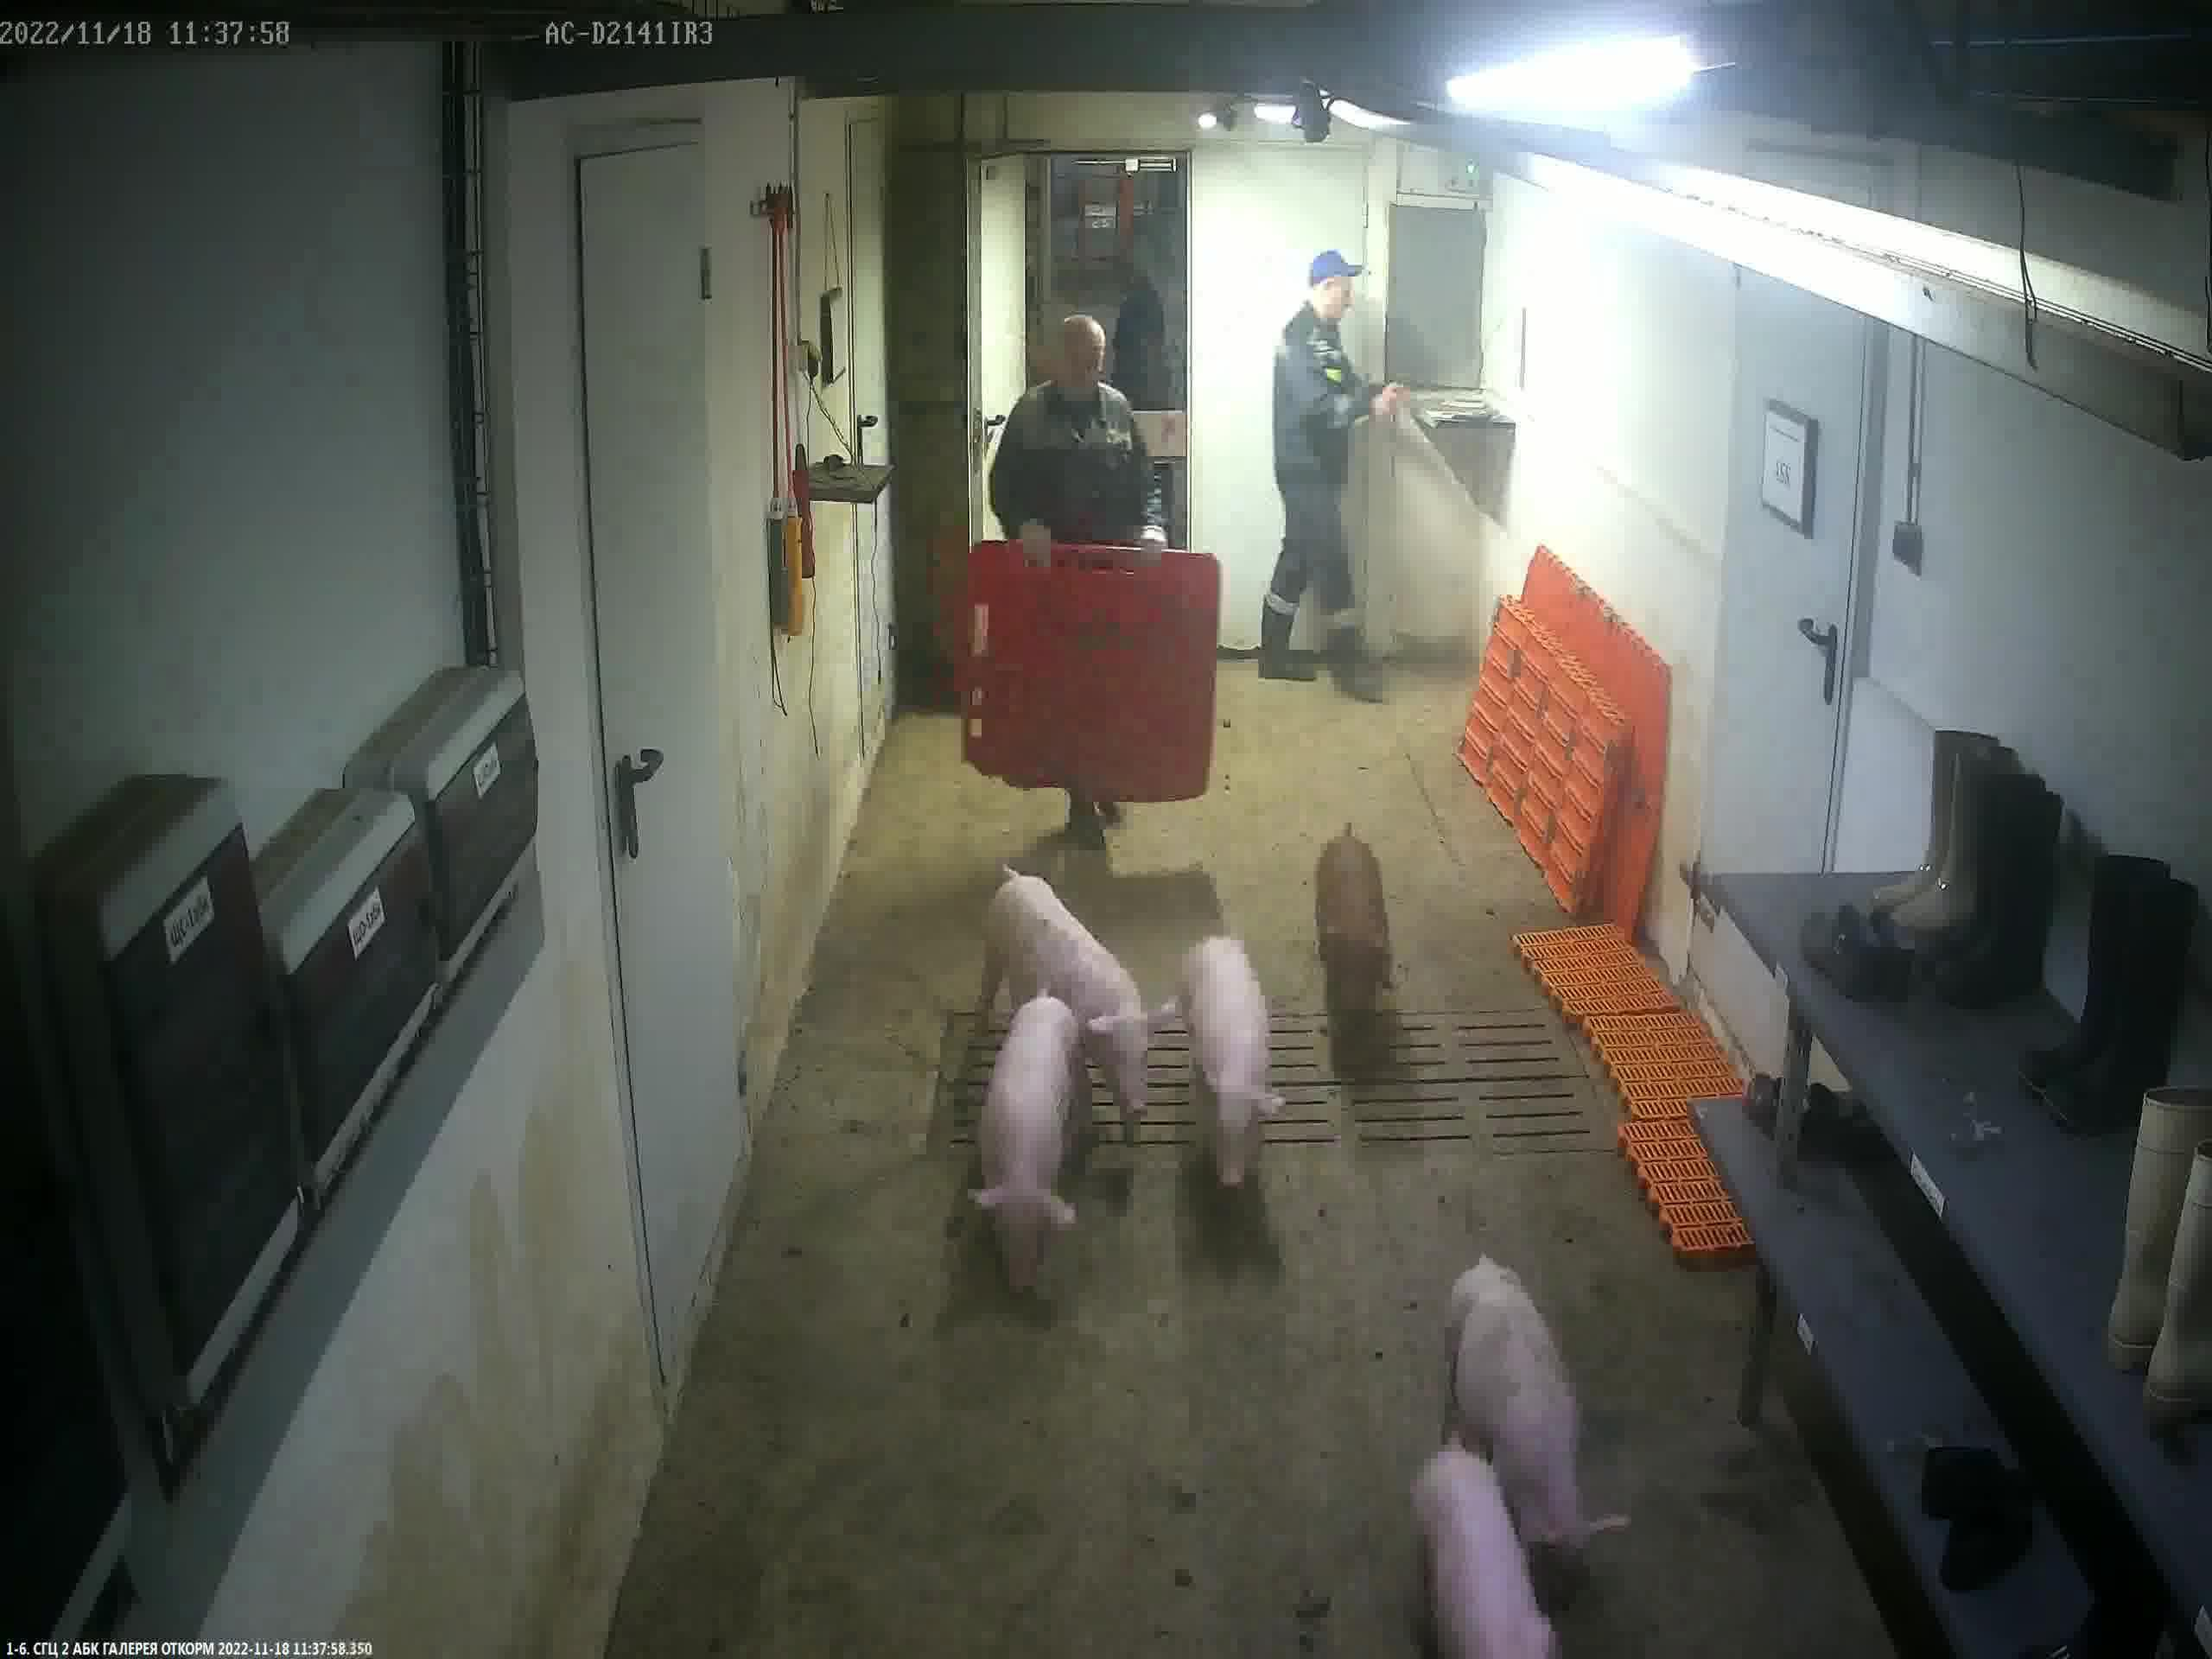Pigs: (1453, 1255, 1632, 1547), (989, 871, 1176, 1126), (968, 997, 1078, 1303), (1418, 1452, 1561, 1659), (1190, 936, 1278, 1180), (1325, 836, 1393, 1040)
